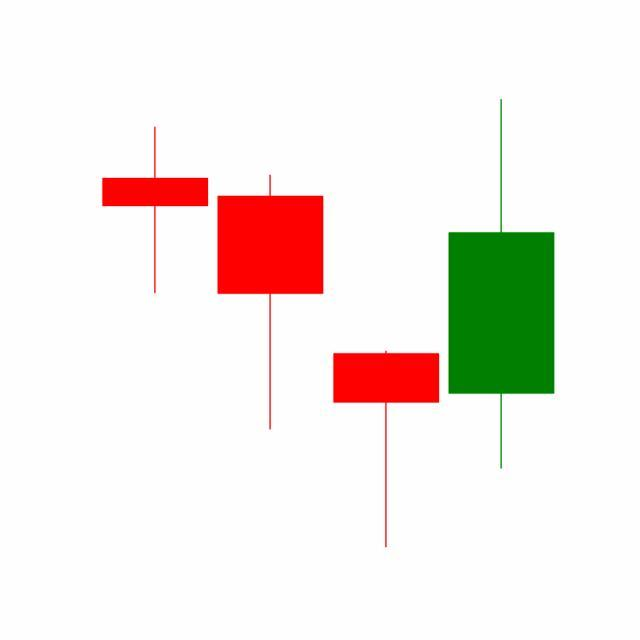Morning Star: (211, 99, 555, 549)
